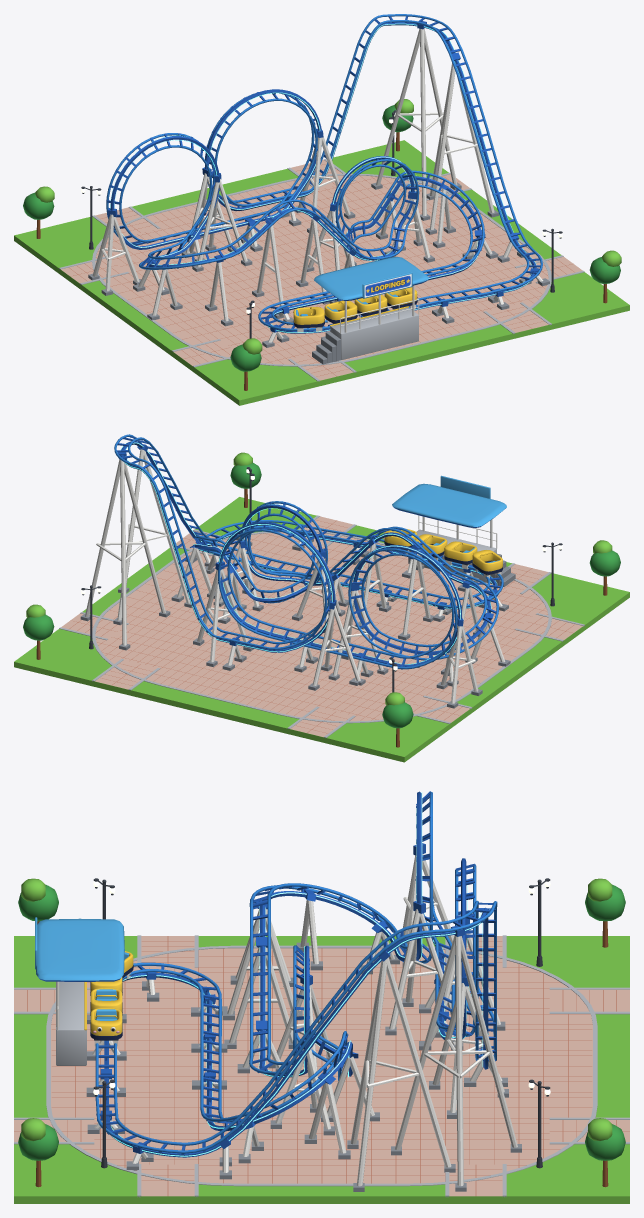
File: montanha_russa_loopings.glb
3 views of the same model, one above another, from view 1: azimuth 30°, elevation 25°; view 2: azimuth 150°, elevation 25°; view 3: azimuth 270°, elevation 25° (orthographic). The views are drawn at different scales.
Visible parts, largest first — view 1: montanha_russa_loopings, carrinho_4, carrinho_3, carrinho_1; view 2: montanha_russa_loopings, carrinho_4, carrinho_3; view 3: montanha_russa_loopings, carrinho_1, carrinho_2.
Part boxes in pixels (x1,y1,x2,y2): montanha_russa_loopings: (14, 14, 629, 405); carrinho_4: (293, 307, 324, 332); carrinho_3: (324, 300, 357, 324); carrinho_1: (384, 287, 418, 309); montanha_russa_loopings: (14, 434, 629, 762); carrinho_4: (472, 550, 502, 578); carrinho_3: (444, 541, 477, 569); montanha_russa_loopings: (14, 791, 629, 1203); carrinho_1: (90, 1008, 122, 1046); carrinho_2: (90, 988, 122, 1015).
Bounding box in the file's own units: 30 × 13.55 × 30.
Materials: 4 (2 with a texture image).
